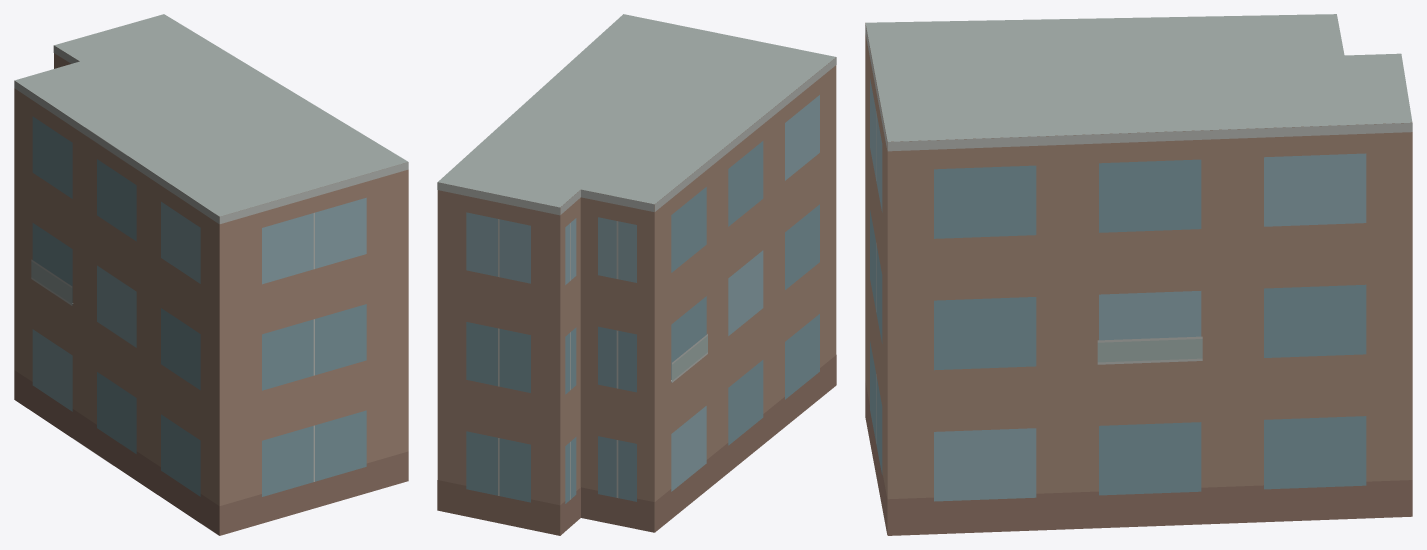
File: survey-upis-32929470.glb
3 renders of one model, left to right at view 1: azimuth 30°, elevation 25°; view 2: azimuth 150°, elevation 25°; view 3: azimuth 270°, elevation 25°, orthographic. The views are drawn at different scales.
Parts seen in each view (by area): view 1: survey-upis-32929470.tmp; view 2: survey-upis-32929470.tmp; view 3: survey-upis-32929470.tmp.
Boxes of the visible parts, box(x1,y1,x2,y2) form: survey-upis-32929470.tmp: box(14, 14, 408, 535); survey-upis-32929470.tmp: box(437, 14, 836, 535); survey-upis-32929470.tmp: box(865, 14, 1412, 535).
Bounding box in the file's own units: 7.11 × 10.2 × 12.85.
